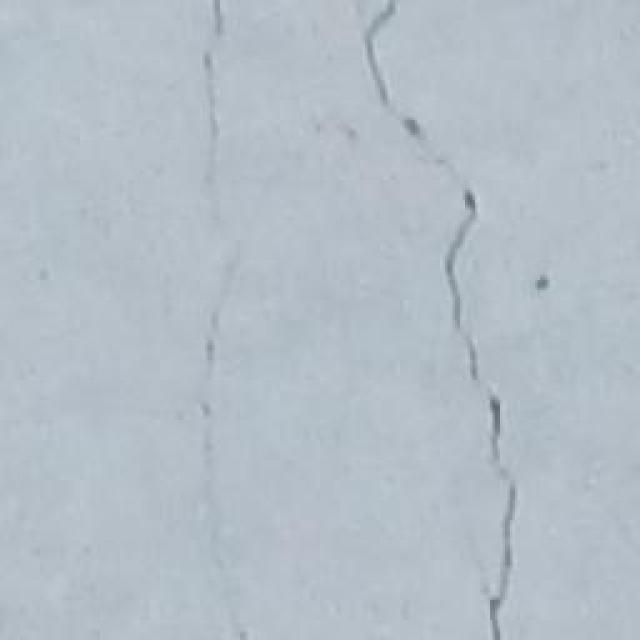concrete-crack: (358, 0, 524, 640), (196, 254, 242, 559), (201, 3, 232, 213)
